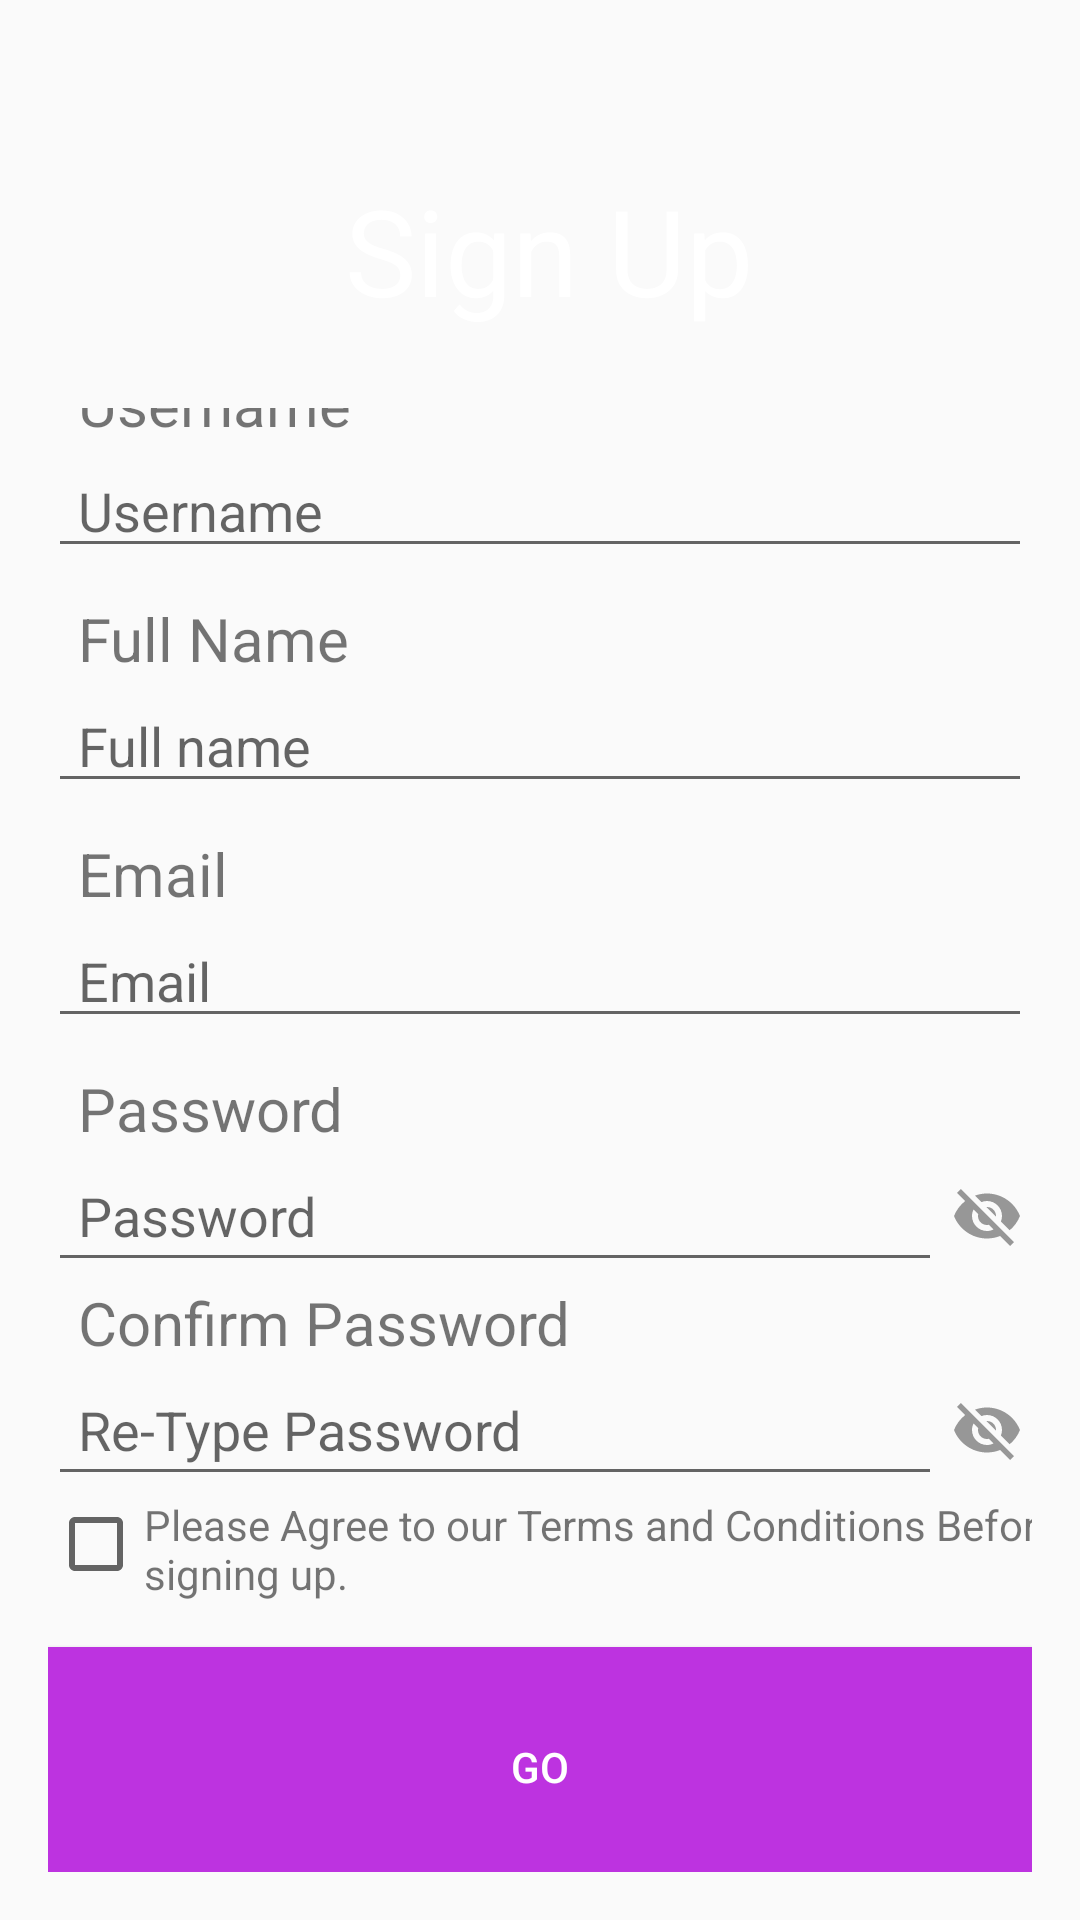

Where icons sit on this 1080x1920 app screen, as (x1, y1, x2, y2):
visible off eye: (954, 1189, 1020, 1246), (954, 1403, 1020, 1460)
